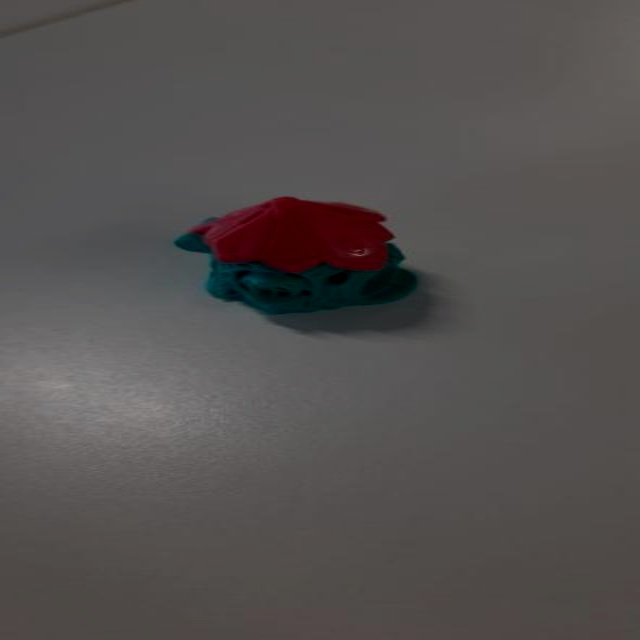House: (180, 194, 436, 316)
